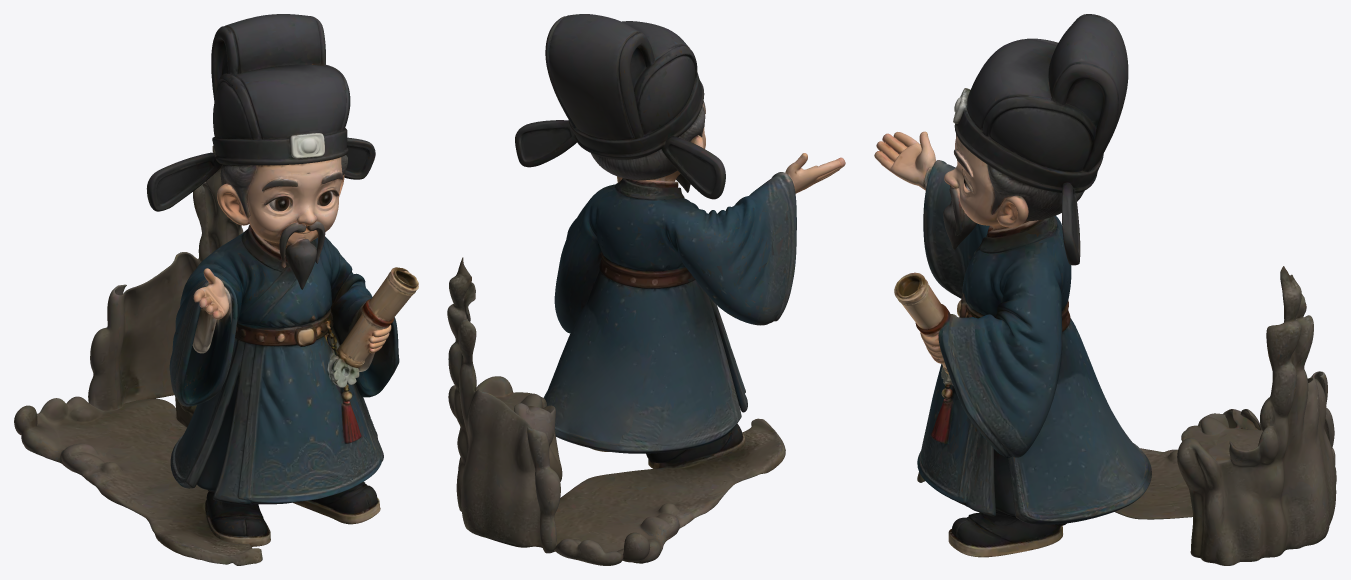
Rendered from gate-open.glb.
3 renders of one model, left to right at view 1: azimuth 30°, elevation 25°; view 2: azimuth 150°, elevation 25°; view 3: azimuth 270°, elevation 25°, orthographic. The views are drawn at different scales.
Visible parts, largest first — view 1: node_0; view 2: node_0; view 3: node_0.
Boxes of the visible parts, x1=… form: node_0: x1=14, y1=14, x2=418, y2=565; node_0: x1=447, y1=14, x2=845, y2=565; node_0: x1=874, y1=14, x2=1336, y2=565.
Size of the model in its own units: 0.5285 by 0.9041 by 0.7592.
1 material, 1 textured.
